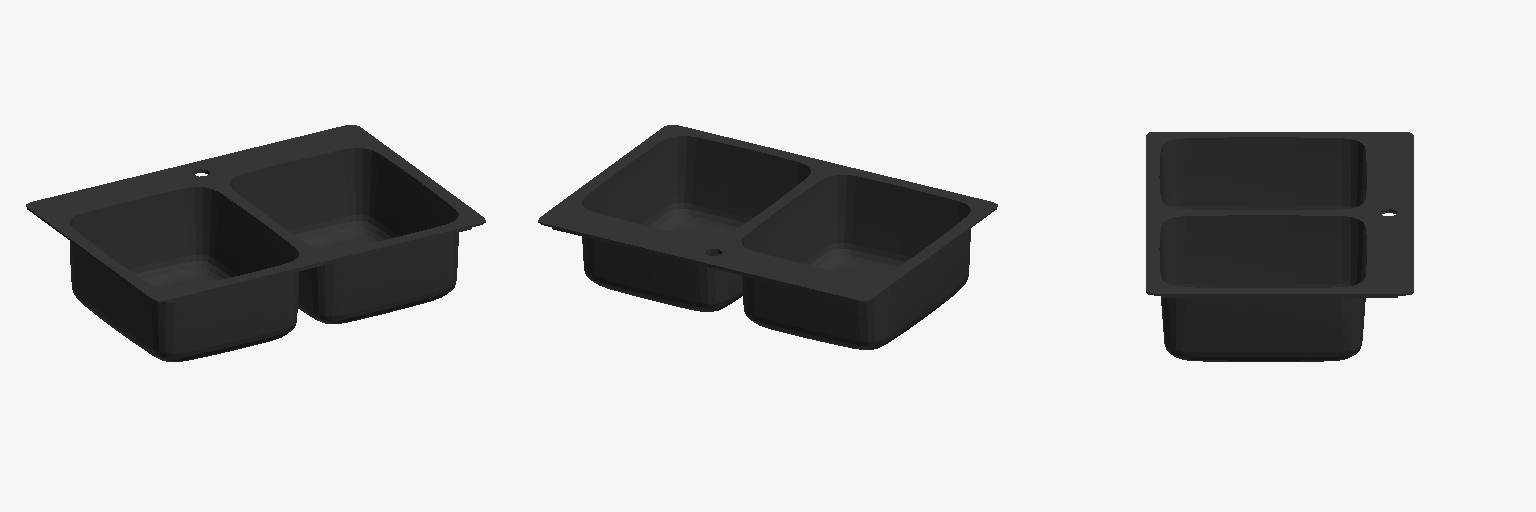
The model's file is IKEA.ART.00315175.obj.
3 views of the same model, side by side, from view 1: azimuth 30°, elevation 25°; view 2: azimuth 150°, elevation 25°; view 3: azimuth 270°, elevation 25° (orthographic).
Parts seen in each view (by area): view 1: model; view 2: model; view 3: model.
Part boxes in pixels (left/top/right/bottom): model: left=26, top=125, right=485, bottom=361; model: left=538, top=125, right=997, bottom=349; model: left=1146, top=132, right=1413, bottom=361.
Bounding box in the file's own units: 0.75 × 0.1866 × 0.525.